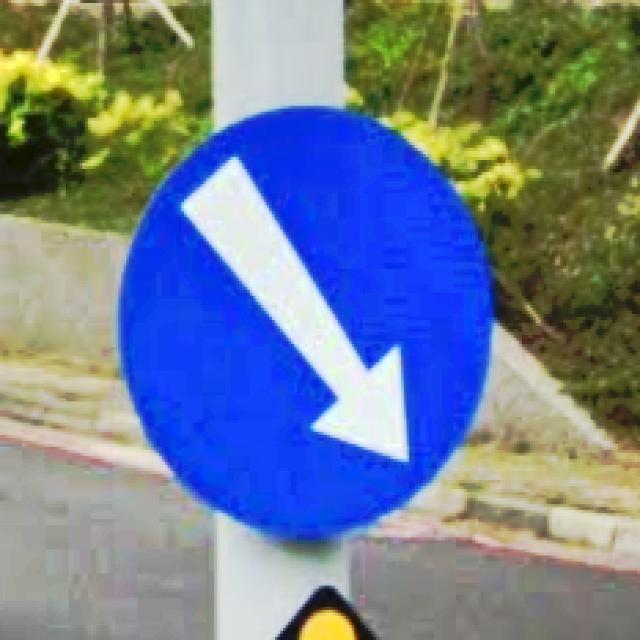thisway: (113, 97, 497, 540)
